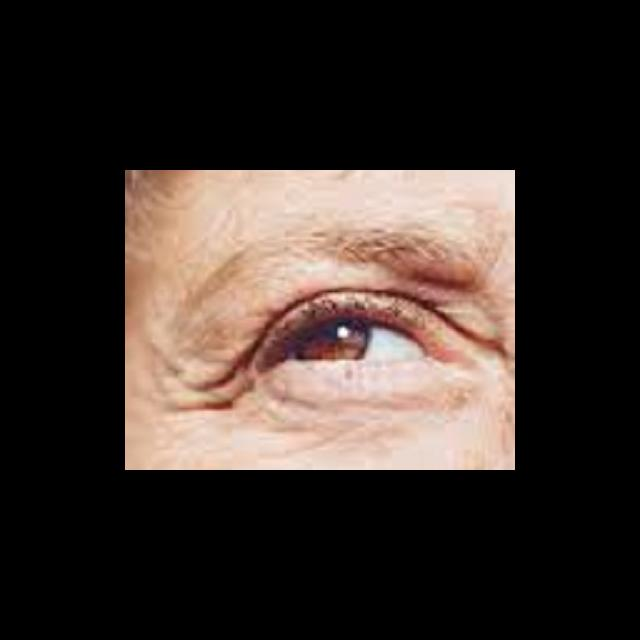eye: (287, 315, 427, 364)
iris: (292, 315, 369, 361)
